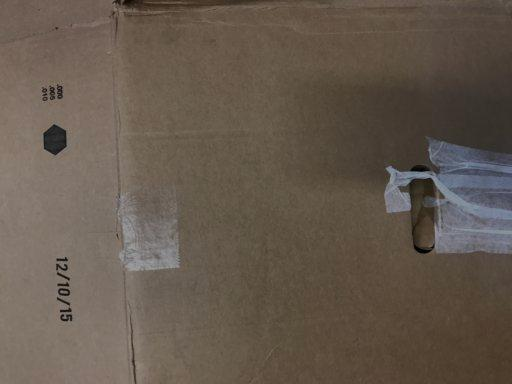cardboard: (0, 3, 512, 382)
